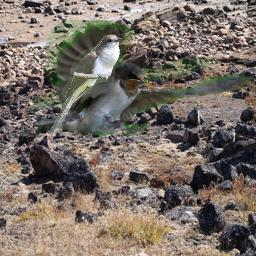Cuckoo: (48, 34, 123, 137)
Swallow: (34, 20, 254, 136)
